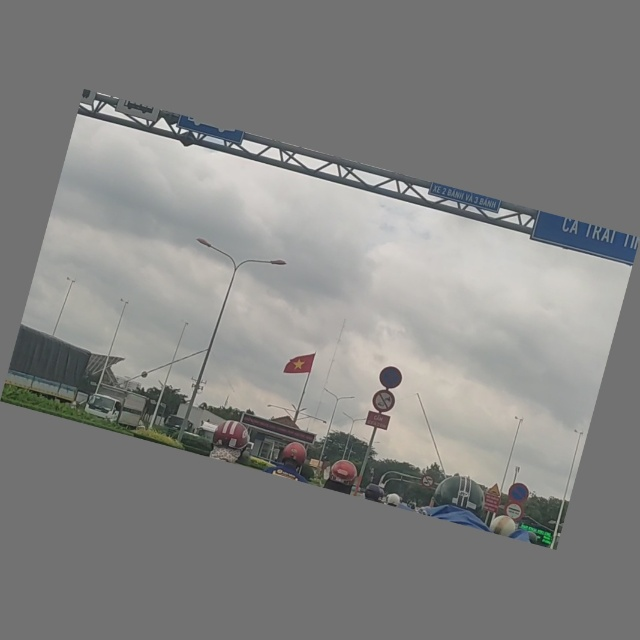P.107: (420, 474, 436, 488)
P.111: (370, 388, 398, 416)
P.129: (503, 501, 526, 523)
P.130: (377, 365, 405, 392)
P.131a: (506, 482, 532, 505)
W.221b: (487, 481, 504, 497)
